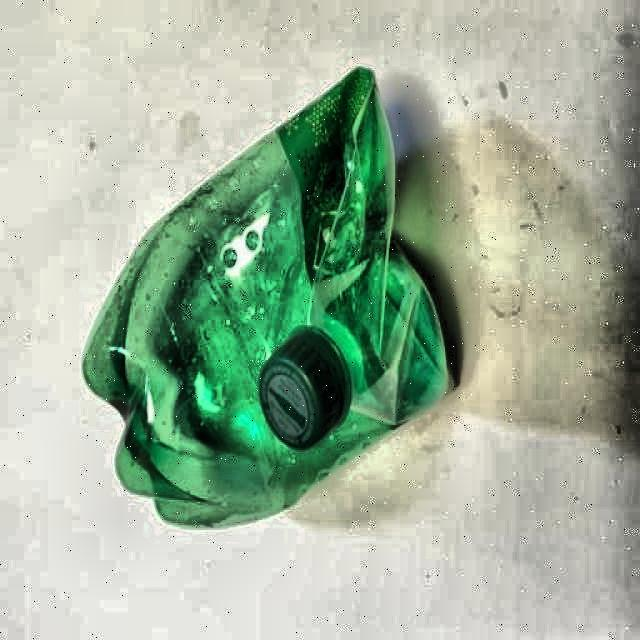plastic: (80, 67, 456, 532)
